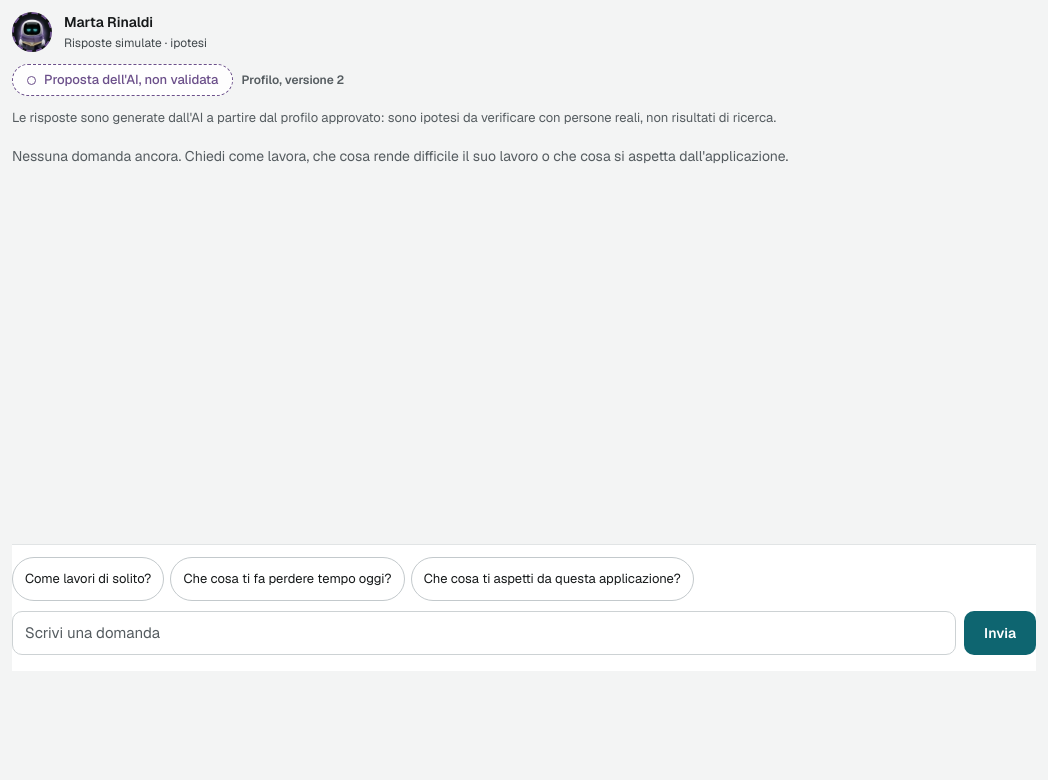
Test case: twin chat panel › asks a question and shows the answer as a labelled hypothesis with its insights
Check: the text with test id "twin-chat-empty" shows "Nessuna domanda ancora. Chiedi come lavora, che cosa rende difficile il suo lavoro o che cosa si aspetta dall'applicazione.", box [12, 147, 788, 165]
Submit the form
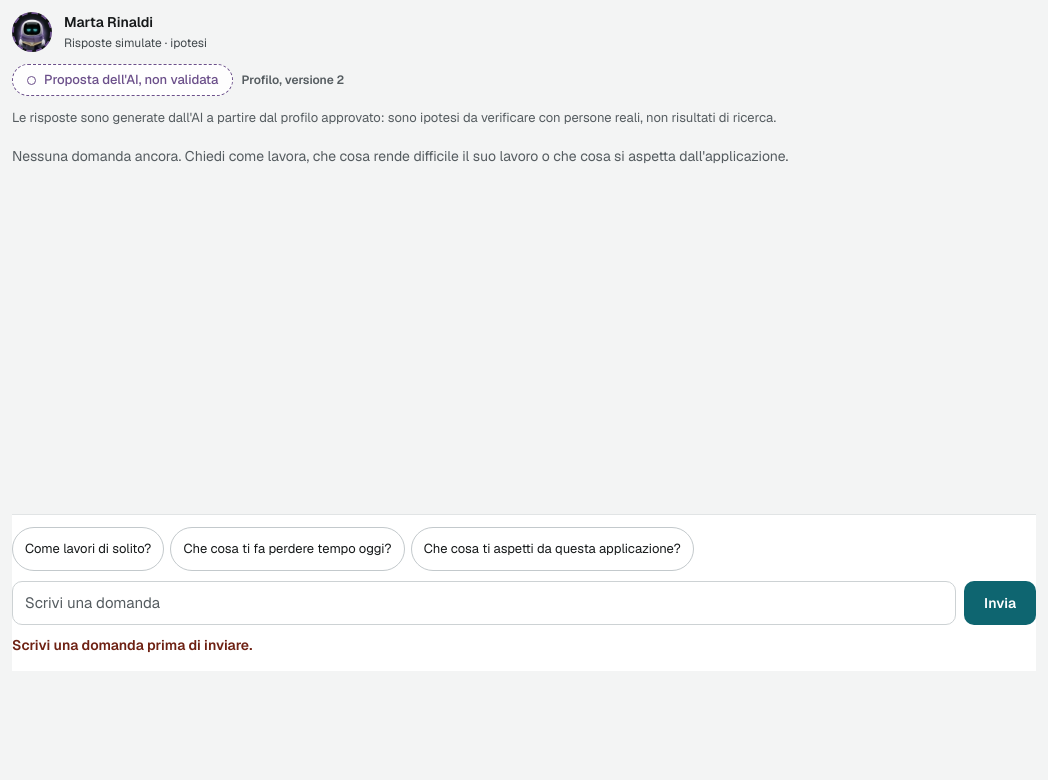
Check: the message "Scrivi una domanda prima di inviare." is shown, box [12, 636, 252, 654]
In the text box with test id "twin-chat-question": (484, 603) [12, 580, 956, 625], type "Quanto tempo hai per registrare un ospite?"
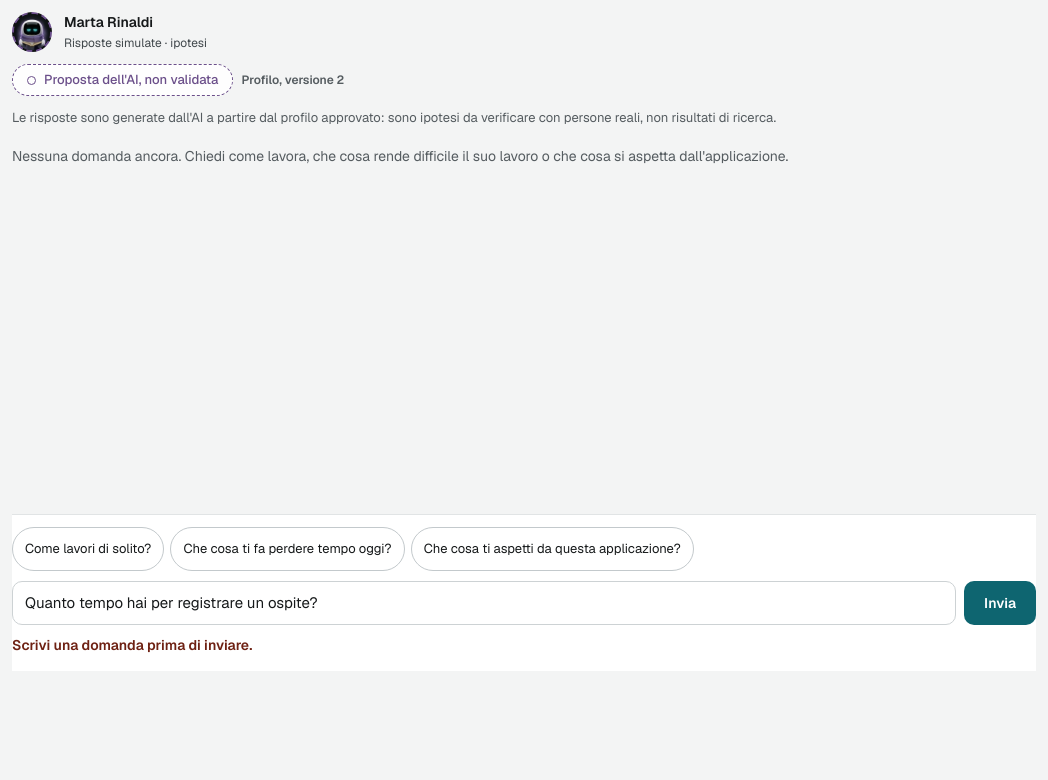
Submit the form
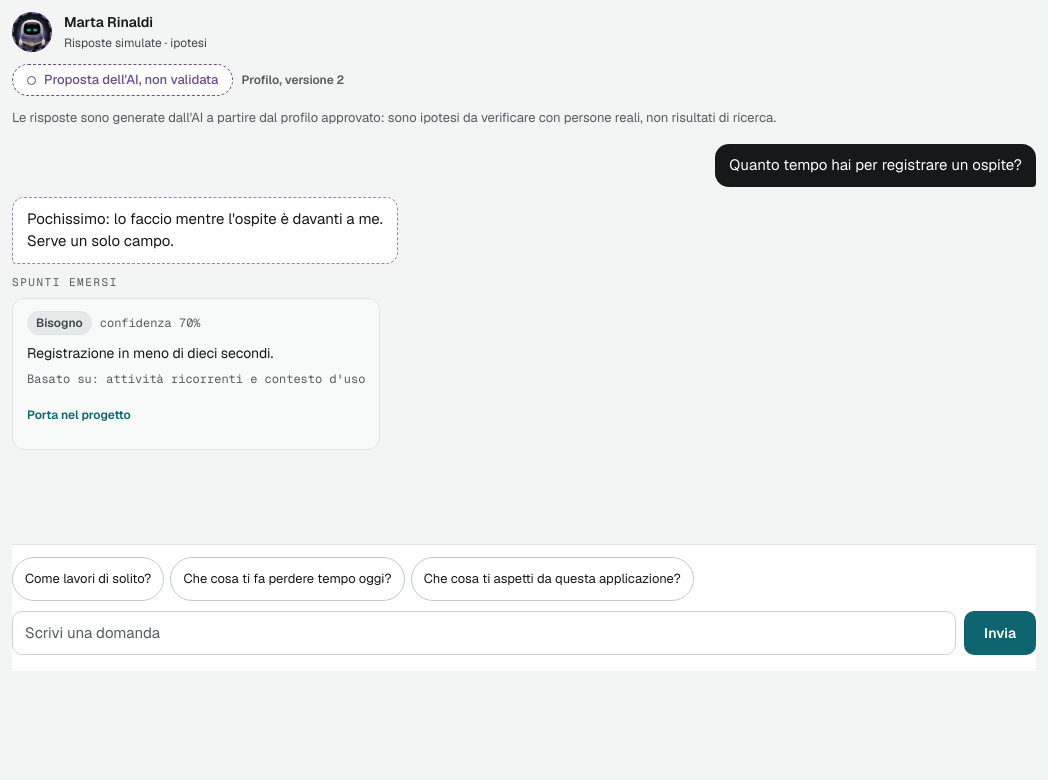
Check: the list item with test id "twin-chat-turn" shows "Quanto tempo hai per registrare un ospite?", box [729, 155, 1022, 174]
Check: the list item with test id "twin-chat-turn" shows "Serve un solo campo.", box [27, 208, 383, 250]
Check: the number of list items with test id "twin-chat-insight" is 1, box [12, 298, 380, 450]
